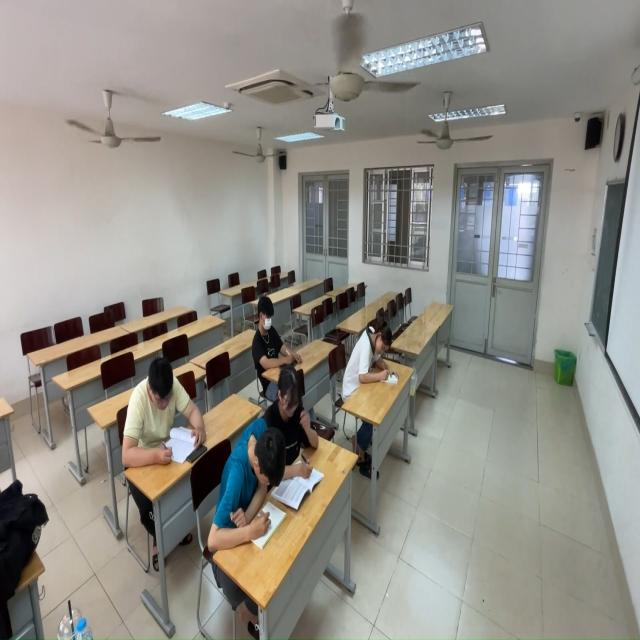read: (210, 412, 287, 555), (114, 343, 199, 472), (259, 370, 329, 493), (341, 295, 405, 402), (248, 295, 301, 374)
